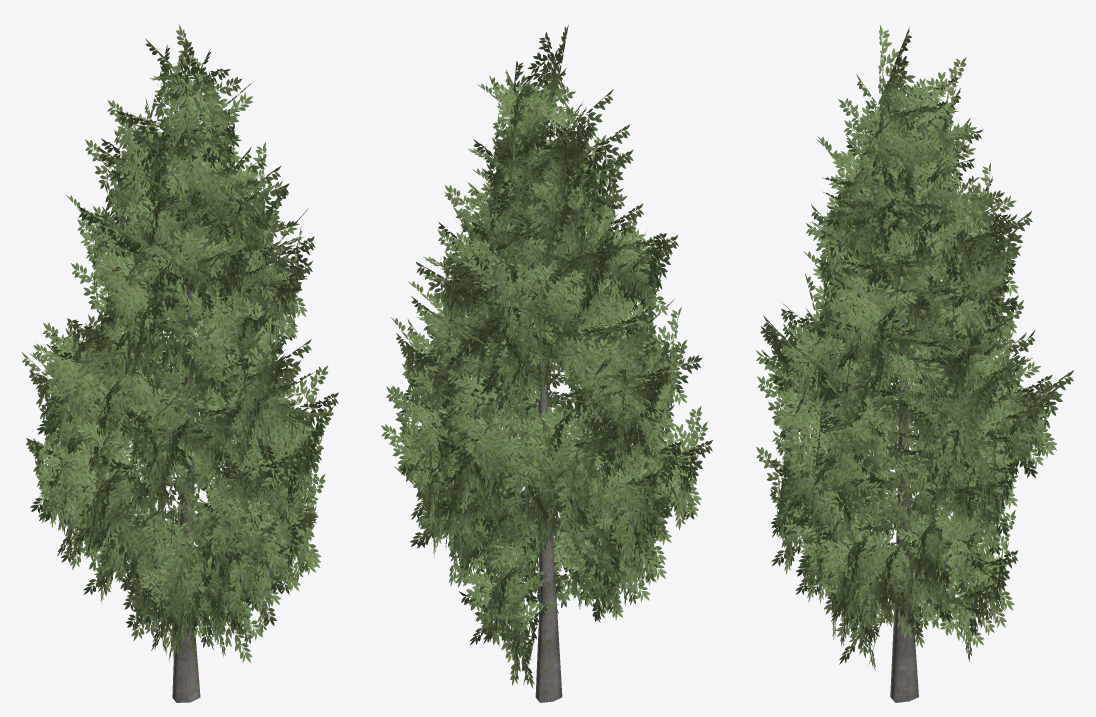
File: Laurus_Nobilis_Autumn_Adult.glb
The picture shows the model from 3 angles, left to right: view 1: azimuth 30°, elevation 25°; view 2: azimuth 150°, elevation 25°; view 3: azimuth 270°, elevation 25°; orthographic projection.
Parts seen in each view (by area): view 1: Laurus_Nobilis_Autumn_Adult__LOD3; view 2: Laurus_Nobilis_Autumn_Adult__LOD3; view 3: Laurus_Nobilis_Autumn_Adult__LOD3.
Boxes of the visible parts, left/top/right/bottom form: Laurus_Nobilis_Autumn_Adult__LOD3: left=21, top=24, right=338, bottom=702; Laurus_Nobilis_Autumn_Adult__LOD3: left=381, top=24, right=712, bottom=702; Laurus_Nobilis_Autumn_Adult__LOD3: left=756, top=25, right=1073, bottom=702.
Size of the model in its own units: 1.85 by 4.14 by 1.85.
2 materials, 2 textured.
